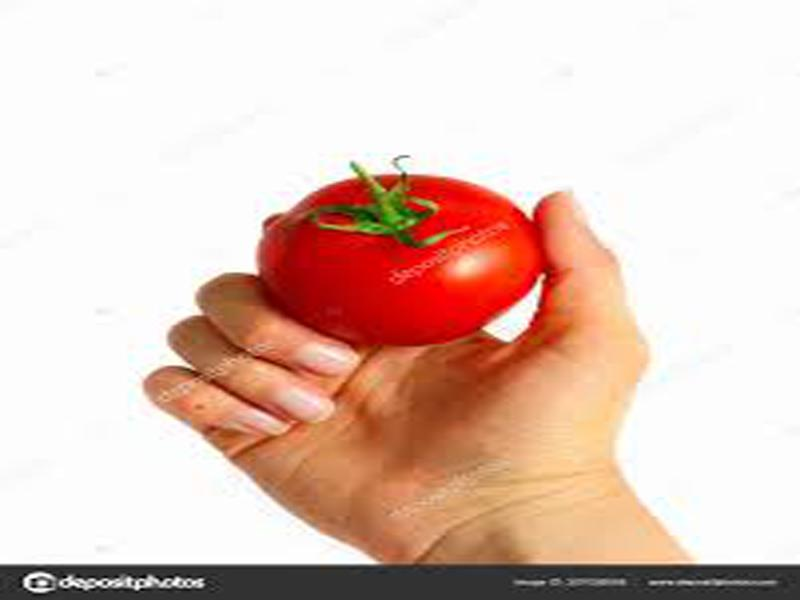Tomato: (263, 172, 541, 347)
